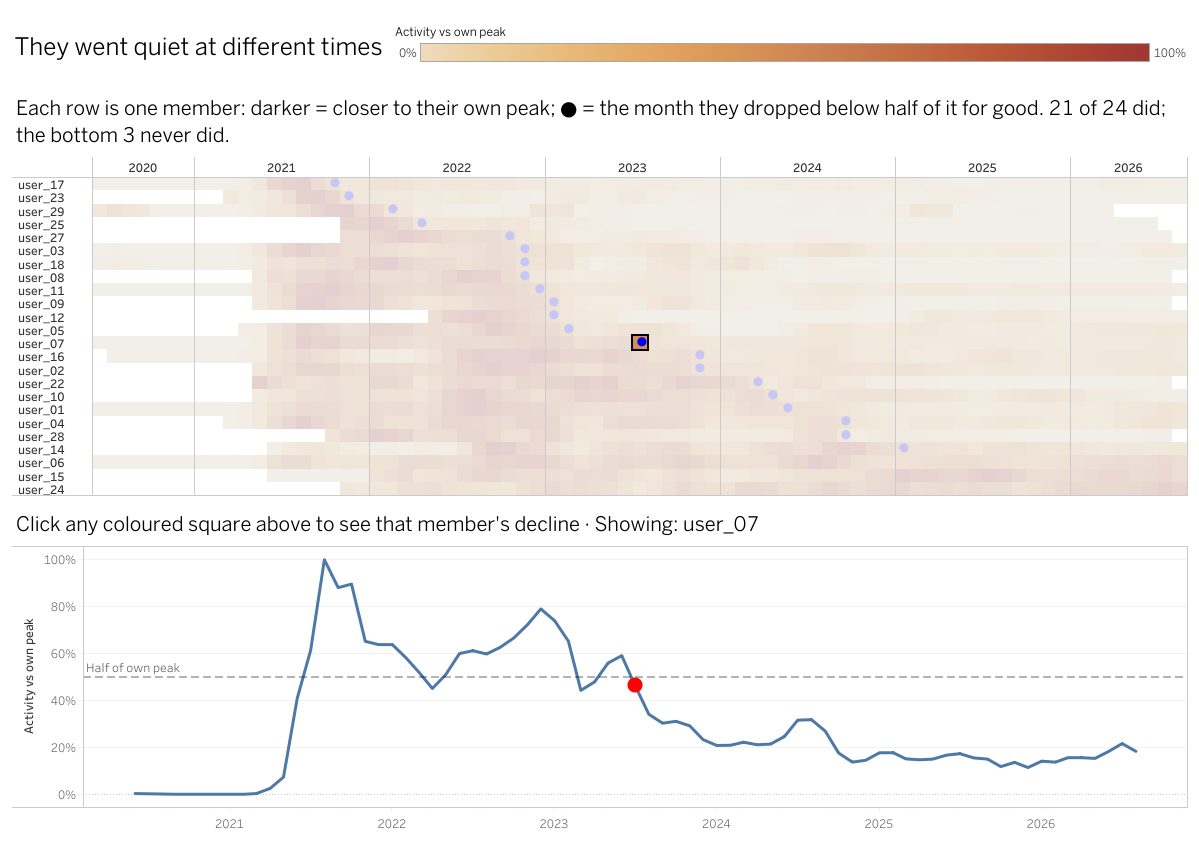

This screenshot's page, from the dashboard's own definition file:
{"tool":"tableau","page":{"name":"Who went quiet","canvas":[1200,850],"ordinal":2},"visuals":[{"type":"title","box":[8,8,1184,76]},{"type":"legend","title":"Staircase","param":"[federated.0hybbvs04l7ryx14jio3o0sviiva].[sum:pct_of_peak:qk]","box":[395,19,796,67]},{"type":"worksheet","title":"Staircase","mark":"Square","rows":["member"],"cols":["month","month"],"box":[8,84,1184,416.2]},{"type":"worksheet","title":"One member","mark":"Line","rows":["pct_of_peak","Calculation_1187253416595460"],"cols":["month"],"box":[8,500.1,1184,341.9]}]}

Visuals, with their boxes in screenshot pixels (x1, y1, x2, y2), scaled from the page's 1200x850 canvas onto the 1199x849 screenshot:
title: select_region(8, 8, 1191, 84)
"Staircase" legend: select_region(395, 19, 1190, 86)
"Staircase" worksheet (Square marks): select_region(8, 84, 1191, 500)
"One member" worksheet (Line marks): select_region(8, 500, 1191, 841)
